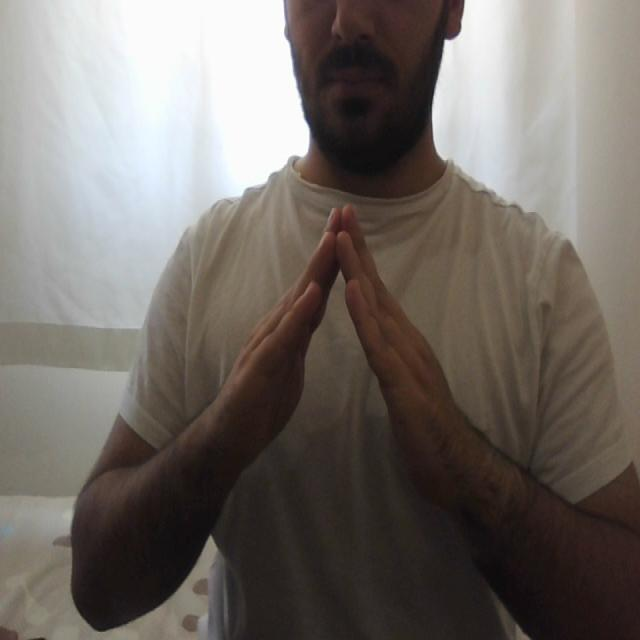Ev: (207, 196, 472, 494)
